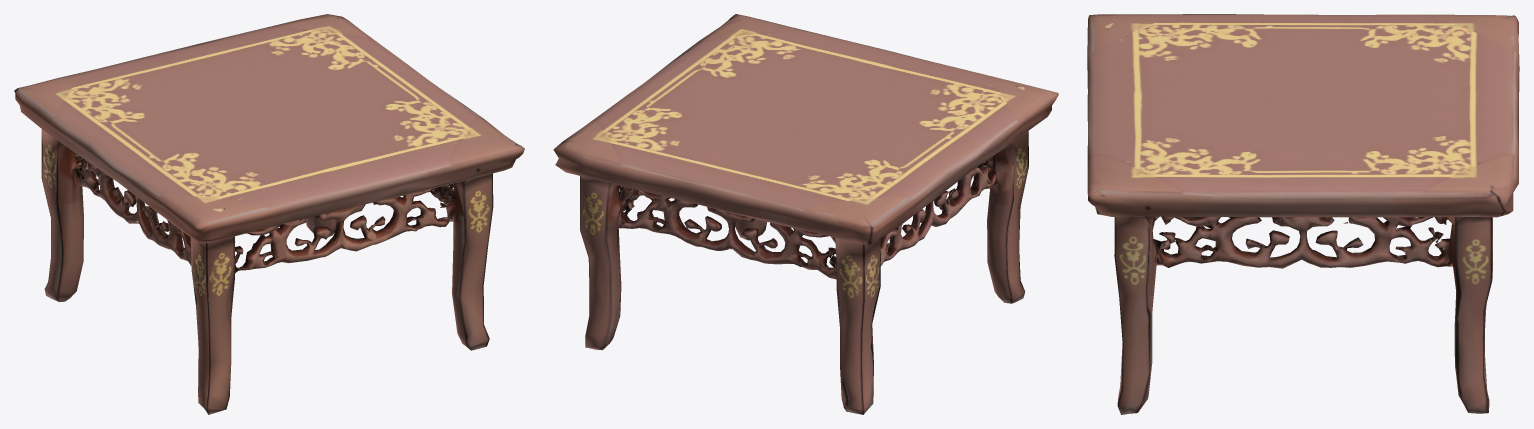
File: Table_Wooden_1_1114080248_texture.fbx
3 views of the same model, side by side, from view 1: azimuth 30°, elevation 25°; view 2: azimuth 150°, elevation 25°; view 3: azimuth 270°, elevation 25° (orthographic). The views are drawn at different scales.
Visible parts, largest first — view 1: Mesh1.0; view 2: Mesh1.0; view 3: Mesh1.0.
Part boxes in pixels (x1,y1,x2,y2): Mesh1.0: [14, 14, 524, 414]; Mesh1.0: [553, 14, 1058, 414]; Mesh1.0: [1087, 14, 1519, 414].
Bounding box in the file's own units: 191 × 117 × 191.
Materials: 1 (1 with a texture image).
